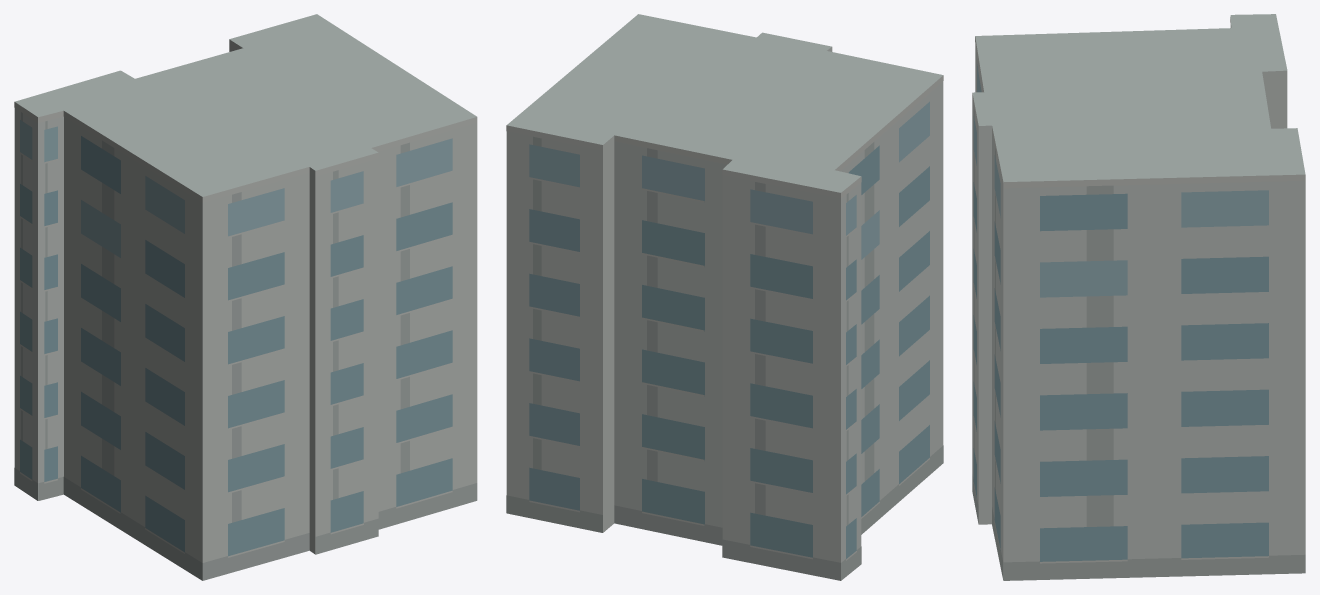
File: survey-upis-32940761.glb
3 views of the same model, side by side, from view 1: azimuth 30°, elevation 25°; view 2: azimuth 150°, elevation 25°; view 3: azimuth 270°, elevation 25° (orthographic). The views are drawn at different scales.
Visible parts, largest first — view 1: survey-upis-32940761.tmp; view 2: survey-upis-32940761.tmp; view 3: survey-upis-32940761.tmp.
Boxes of the visible parts, x1,y1,x2,y2 form: survey-upis-32940761.tmp: (14, 14, 477, 580); survey-upis-32940761.tmp: (506, 14, 943, 580); survey-upis-32940761.tmp: (972, 14, 1305, 580).
Bounding box in the file's own units: 14.3 × 15.8 × 11.97.
